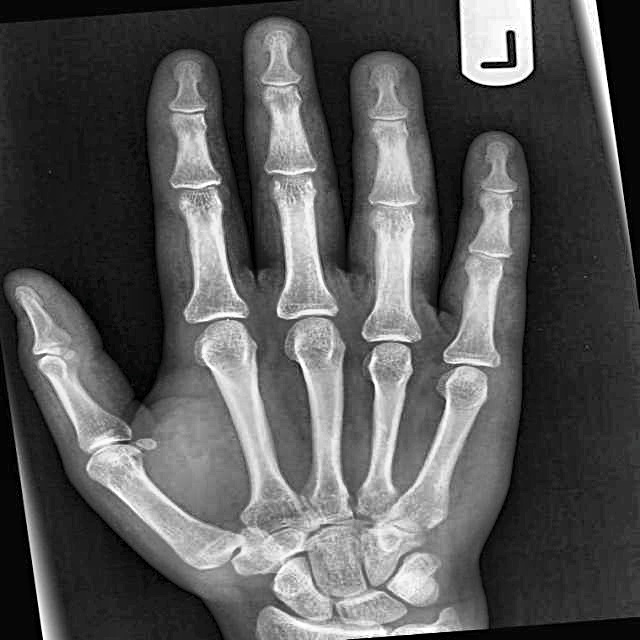Healthy: (96, 127, 509, 569)
